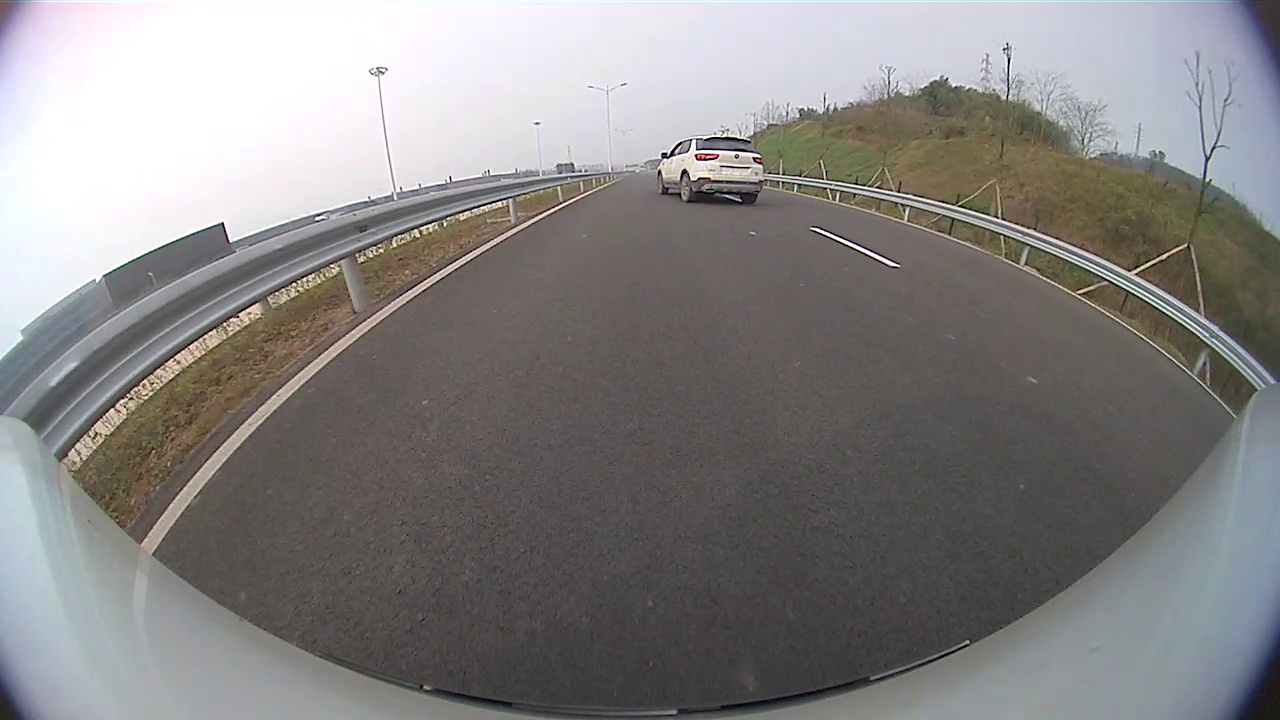car: (655, 134, 766, 205)
front: (656, 173, 669, 196)
rear: (680, 170, 697, 204)
